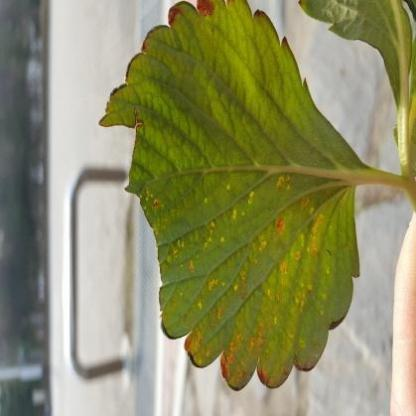Strawberry_Angular_LeafSpot: (137, 173, 355, 391)
